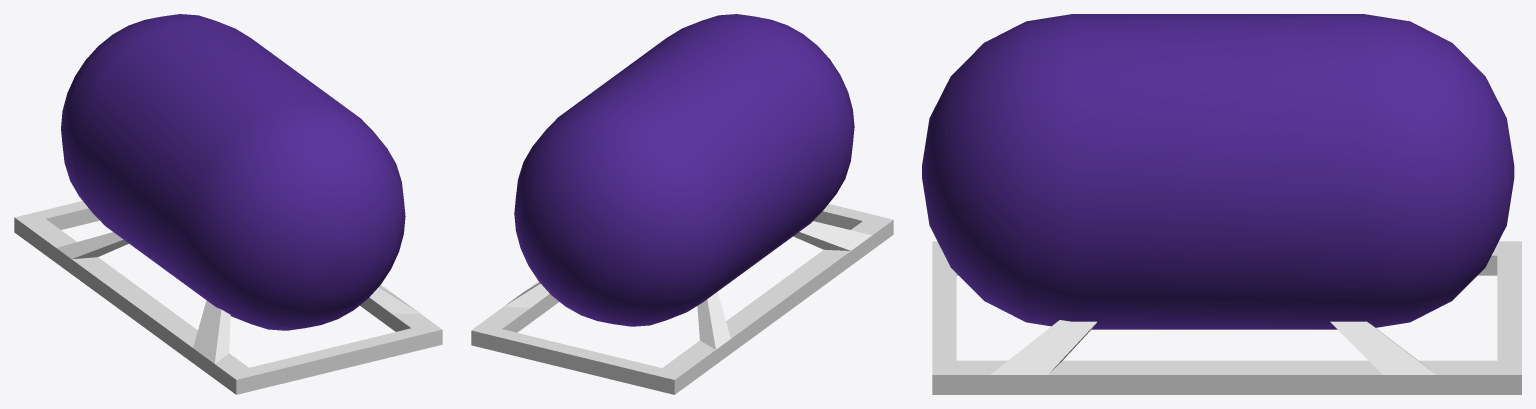
Rendered from fuel_tank.glb.
The picture shows the model from 3 angles, left to right: view 1: azimuth 30°, elevation 25°; view 2: azimuth 150°, elevation 25°; view 3: azimuth 270°, elevation 25°; orthographic projection. The views are drawn at different scales.
Visible parts, largest first — view 1: Cylinder.005, Plane; view 2: Cylinder.005, Plane; view 3: Cylinder.005, Plane.
Boxes of the visible parts, left/top/right/bottom form: Cylinder.005: left=61, top=14, right=405, bottom=330; Plane: left=14, top=201, right=442, bottom=394; Cylinder.005: left=514, top=14, right=854, bottom=326; Plane: left=471, top=204, right=893, bottom=394; Cylinder.005: left=922, top=14, right=1514, bottom=329; Plane: left=932, top=241, right=1521, bottom=394.
Size of the model in its own units: 2.01 by 2.1 by 3.79.
